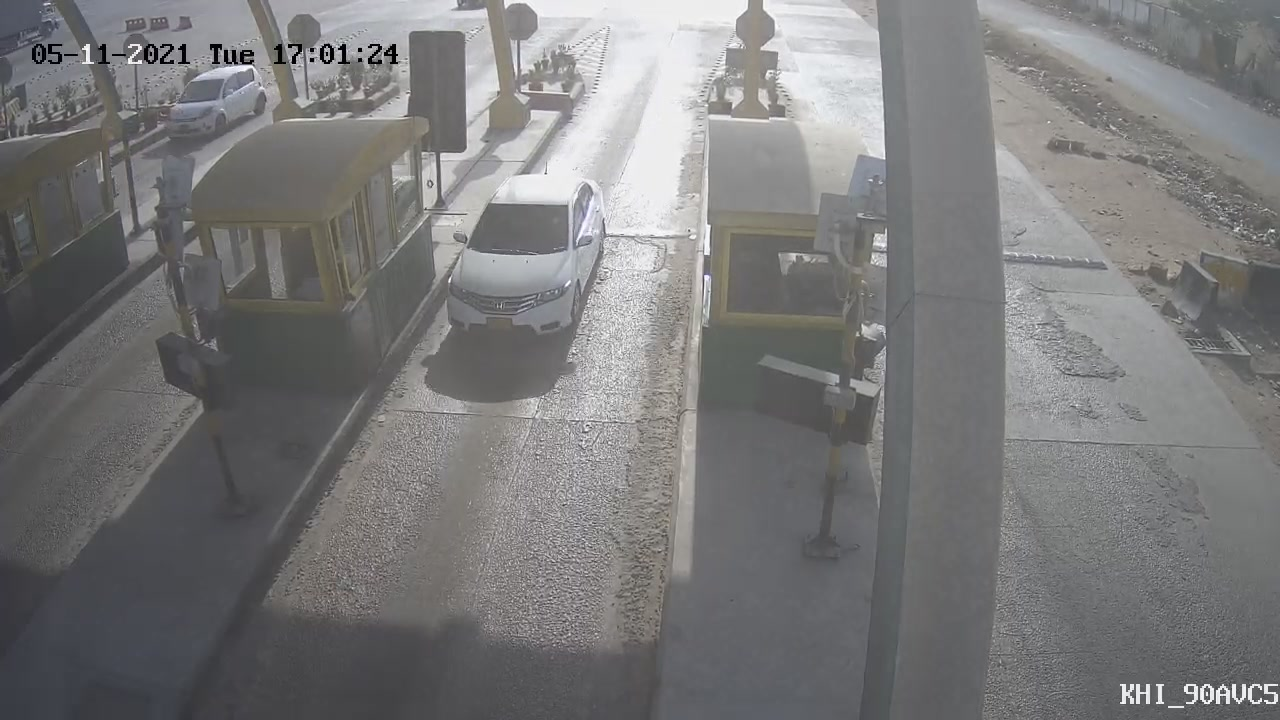F1: (420, 151, 627, 366)
